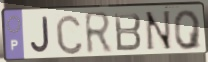B: (113, 11, 143, 53)
C: (54, 12, 85, 56)
J: (29, 15, 52, 56)
N: (144, 9, 174, 53)
Q: (172, 8, 203, 52)
R: (83, 10, 114, 57)
